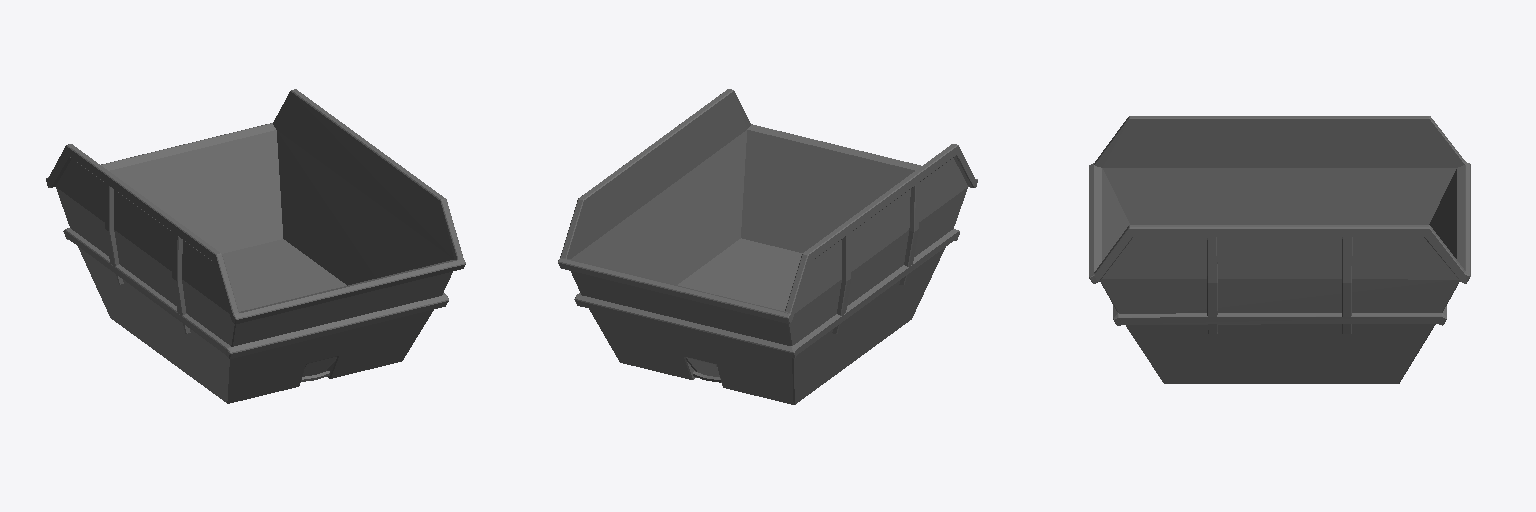
File: dumpster1.obj
The picture shows the model from 3 angles: view 1: azimuth 30°, elevation 25°; view 2: azimuth 150°, elevation 25°; view 3: azimuth 270°, elevation 25°; orthographic projection.
Visible parts, largest first — view 1: Mesh_0040.002_Untitled; view 2: Mesh_0040.002_Untitled; view 3: Mesh_0040.002_Untitled.
Part boxes in pixels (left/top/right/bottom): Mesh_0040.002_Untitled: left=46, top=89, right=465, bottom=403; Mesh_0040.002_Untitled: left=558, top=89, right=977, bottom=404; Mesh_0040.002_Untitled: left=1089, top=116, right=1470, bottom=383.
Size of the model in its own units: 7.26 by 5.08 by 10.41.